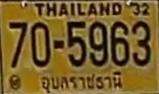0: (30, 21, 50, 66)
3: (131, 20, 150, 65)
5: (66, 20, 85, 66)
6: (110, 20, 128, 65)
7: (8, 21, 26, 67)
9: (88, 20, 107, 65)
UBN: (38, 69, 127, 94)
